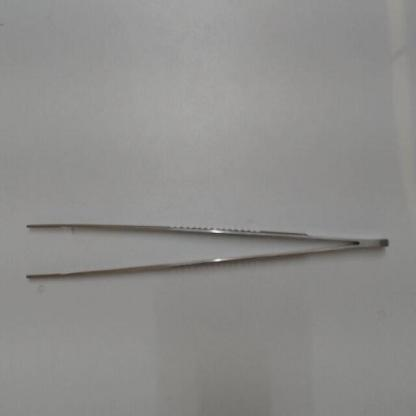DeBakey Dissector: (10, 210, 398, 315)
